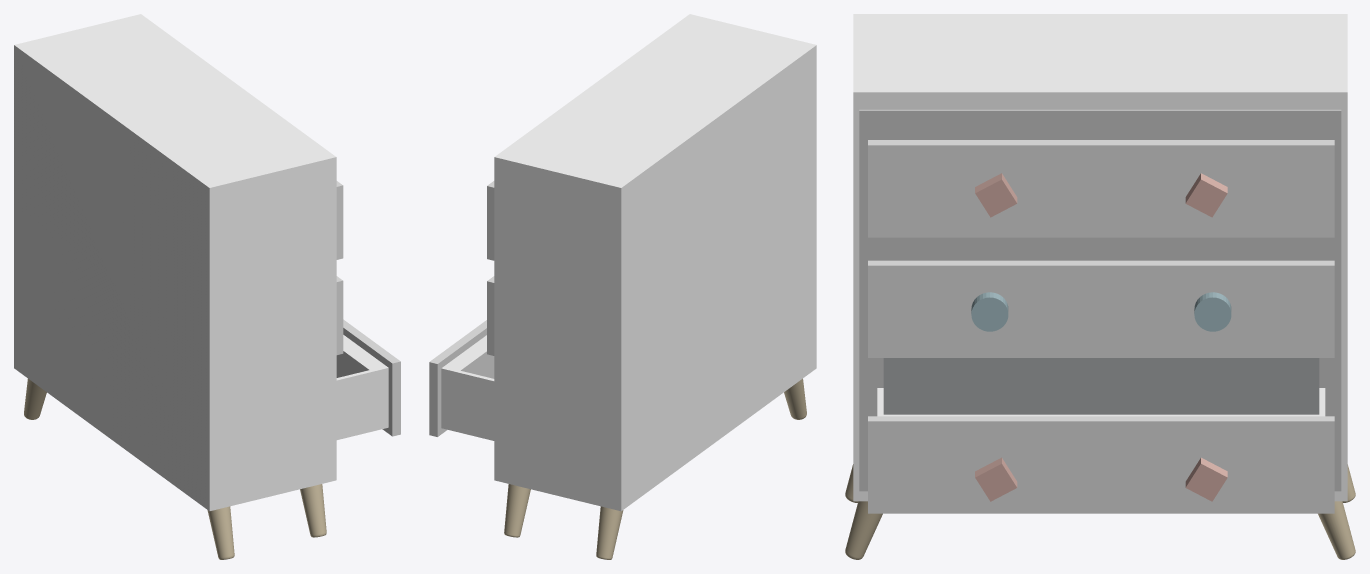
File: DresserModel1.glb
3 renders of one model, left to right at view 1: azimuth 30°, elevation 25°; view 2: azimuth 150°, elevation 25°; view 3: azimuth 270°, elevation 25°, orthographic. The views are drawn at different scales.
Visible parts, largest first — view 1: Cube, Cube.005, Cylinder, Cube.001, Cube.003; view 2: Cube, Cube.005, Cylinder, Cube.003, Cube.001; view 3: Cube, Cube.005, Cube.003, Cube.001, Cube.002, Cube.006, Cylinder, Cylinder.001, Cube.008, Cube.007.
Part boxes in pixels (bbox=[...]): Cube: bbox=[14, 14, 336, 511]; Cube.005: bbox=[336, 319, 400, 439]; Cylinder: bbox=[24, 379, 326, 559]; Cube.001: bbox=[336, 276, 343, 354]; Cube.003: bbox=[336, 181, 343, 259]; Cube: bbox=[494, 14, 816, 511]; Cube.005: bbox=[429, 320, 494, 440]; Cylinder: bbox=[504, 378, 806, 559]; Cube.003: bbox=[487, 181, 494, 260]; Cube.001: bbox=[487, 276, 494, 355]; Cube: bbox=[853, 14, 1347, 501]; Cube.005: bbox=[868, 388, 1334, 513]; Cube.003: bbox=[868, 140, 1334, 237]; Cube.001: bbox=[868, 260, 1334, 357]; Cube.002: bbox=[859, 109, 1341, 491]; Cube.006: bbox=[883, 358, 1319, 414]; Cylinder: bbox=[845, 464, 1355, 559]; Cylinder.001: bbox=[971, 292, 1231, 331]; Cube.008: bbox=[975, 173, 1227, 217]; Cube.007: bbox=[975, 457, 1227, 501].
Size of the model in its own units: 97.96 by 170 by 165.
